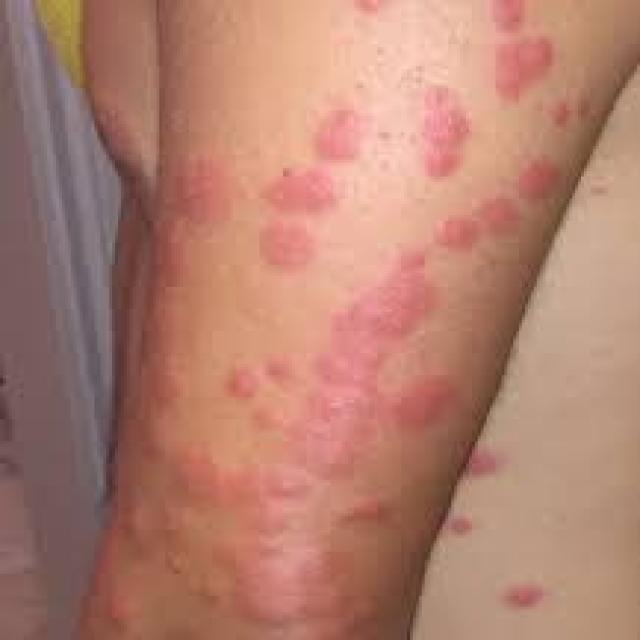kan emici bocekler: (308, 259, 435, 468), (130, 224, 200, 450), (228, 465, 317, 625), (83, 520, 155, 640), (264, 170, 331, 265), (414, 95, 473, 178), (439, 200, 513, 254), (166, 448, 227, 511), (489, 40, 555, 97), (174, 166, 232, 221), (320, 108, 364, 154), (519, 157, 567, 199), (342, 489, 393, 528), (482, 1, 529, 29), (247, 405, 285, 434), (227, 369, 259, 400), (270, 361, 291, 380)
